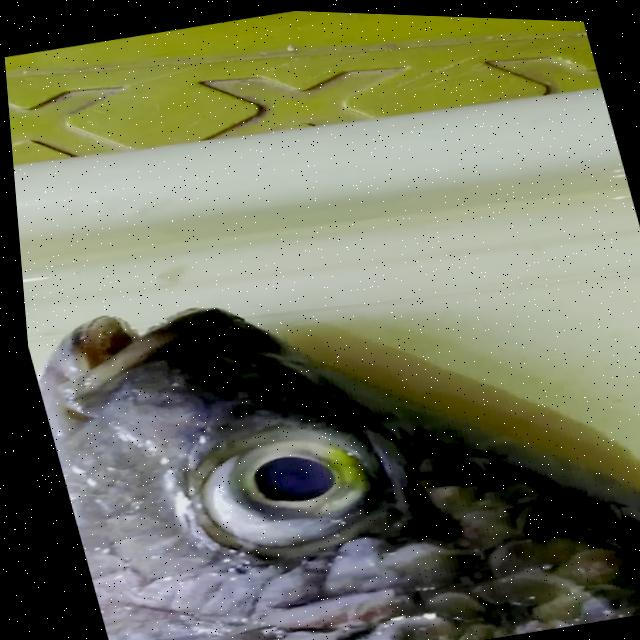Fresh: (106, 376, 423, 599)
